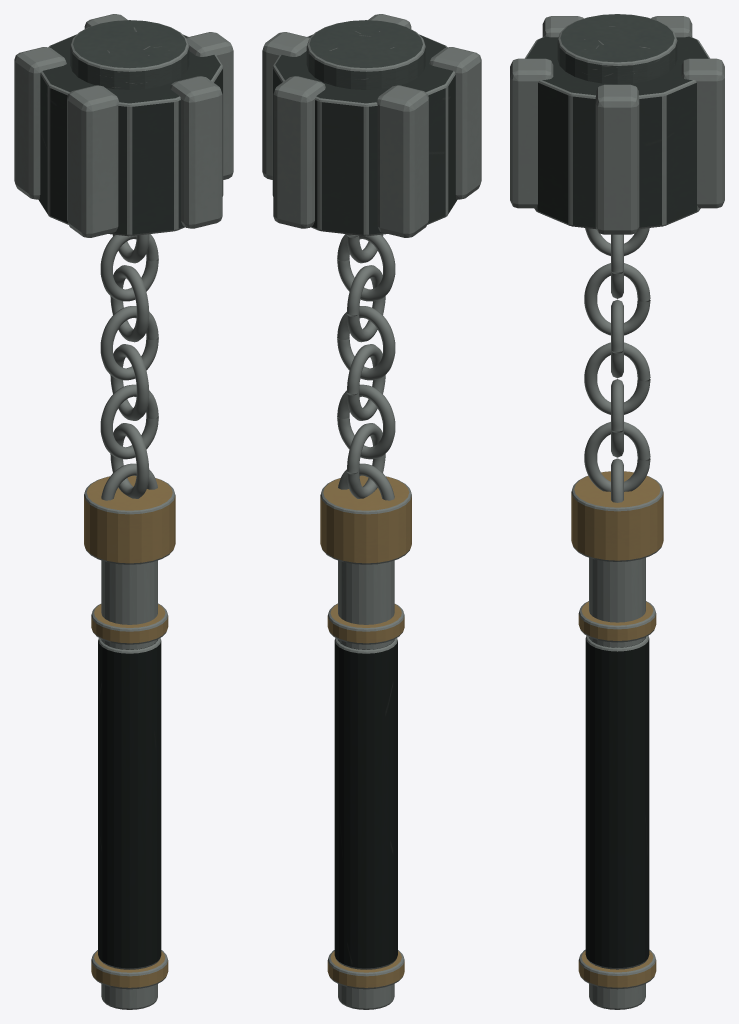
File: flail-t1.glb
The picture shows the model from 3 angles, left to right: view 1: azimuth 30°, elevation 25°; view 2: azimuth 150°, elevation 25°; view 3: azimuth 270°, elevation 25°; orthographic projection.
Parts seen in each view (by area): view 1: Continuous two-hand wrap, Flail core, Flail striking rib 3, Flail crown, Flail hinged collar, Flail striking rib 4, Steel shaft, Flail striking rib 2, Flail striking rib 0, Articulated chain link 2, Articulated chain link 4, Grip ferrule.001 (+7 smaller); view 2: Continuous two-hand wrap, Flail core, Flail striking rib 2, Flail crown, Flail hinged collar, Flail striking rib 1, Steel shaft, Flail striking rib 3, Flail striking rib 0, Articulated chain link 2, Articulated chain link 4, Grip ferrule.001 (+7 smaller); view 3: Continuous two-hand wrap, Flail core, Flail crown, Flail hinged collar, Flail striking rib 0, Steel shaft, Flail striking rib 1, Flail striking rib 4, Articulated chain link 3, Articulated chain link 5, Articulated chain link 1, Grip ferrule.001 (+8 smaller).
Part boxes in pixels (x1=…): Continuous two-hand wrap: x1=98, y1=638, x2=161, y2=969; Flail core: x1=38, y1=34, x2=223, y2=236; Flail striking rib 3: x1=67, y1=85, x2=119, y2=237; Flail crown: x1=70, y1=20, x2=189, y2=89; Flail hinged collar: x1=84, y1=475, x2=175, y2=564; Flail striking rib 4: x1=170, y1=76, x2=222, y2=228; Steel shaft: x1=101, y1=560, x2=157, y2=1009; Flail striking rib 2: x1=14, y1=47, x2=66, y2=199; Flail striking rib 0: x1=186, y1=32, x2=233, y2=179; Articulated chain link 2: x1=100, y1=384, x2=158, y2=459; Articulated chain link 4: x1=100, y1=306, x2=158, y2=380; Grip ferrule.001: x1=91, y1=603, x2=168, y2=644; Continuous two-hand wrap: x1=334, y1=638, x2=397, y2=969; Flail core: x1=272, y1=34, x2=457, y2=236; Flail striking rib 2: x1=376, y1=85, x2=428, y2=237; Flail crown: x1=306, y1=20, x2=425, y2=89; Flail hinged collar: x1=320, y1=475, x2=411, y2=564; Flail striking rib 1: x1=273, y1=76, x2=325, y2=228; Steel shaft: x1=338, y1=560, x2=394, y2=1009; Flail striking rib 3: x1=429, y1=47, x2=481, y2=199; Flail striking rib 0: x1=262, y1=32, x2=309, y2=179; Articulated chain link 2: x1=337, y1=384, x2=395, y2=459; Articulated chain link 4: x1=337, y1=306, x2=395, y2=380; Grip ferrule.001: x1=327, y1=603, x2=404, y2=644; Continuous two-hand wrap: x1=585, y1=635, x2=649, y2=969; Flail core: x1=525, y1=36, x2=709, y2=229; Flail crown: x1=557, y1=14, x2=677, y2=84; Flail hinged collar: x1=571, y1=471, x2=663, y2=561; Flail striking rib 0: x1=595, y1=84, x2=639, y2=234; Steel shaft: x1=589, y1=557, x2=645, y2=1009; Flail striking rib 1: x1=681, y1=58, x2=724, y2=208; Flail striking rib 4: x1=510, y1=58, x2=553, y2=208; Articulated chain link 3: x1=584, y1=342, x2=650, y2=414; Articulated chain link 5: x1=584, y1=263, x2=650, y2=335; Articulated chain link 1: x1=584, y1=422, x2=650, y2=491; Grip ferrule.001: x1=578, y1=601, x2=656, y2=642.
Size of the model in its own units: 0.4478 by 2.3 by 0.4659.
Materials: 5 (5 with a texture image).
